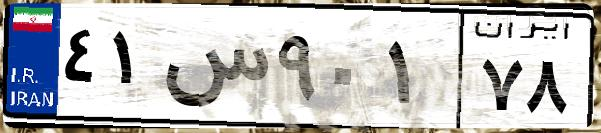0: (330, 28, 385, 110)
1: (385, 28, 445, 110), (110, 28, 158, 98)
4: (57, 26, 110, 100)
7: (475, 38, 525, 113)
8: (525, 38, 570, 115)
9: (270, 28, 330, 110)
س: (158, 20, 270, 120)
